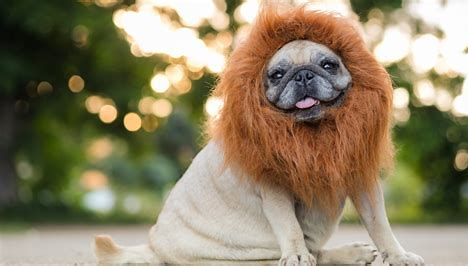dog: (88, 4, 432, 265)
